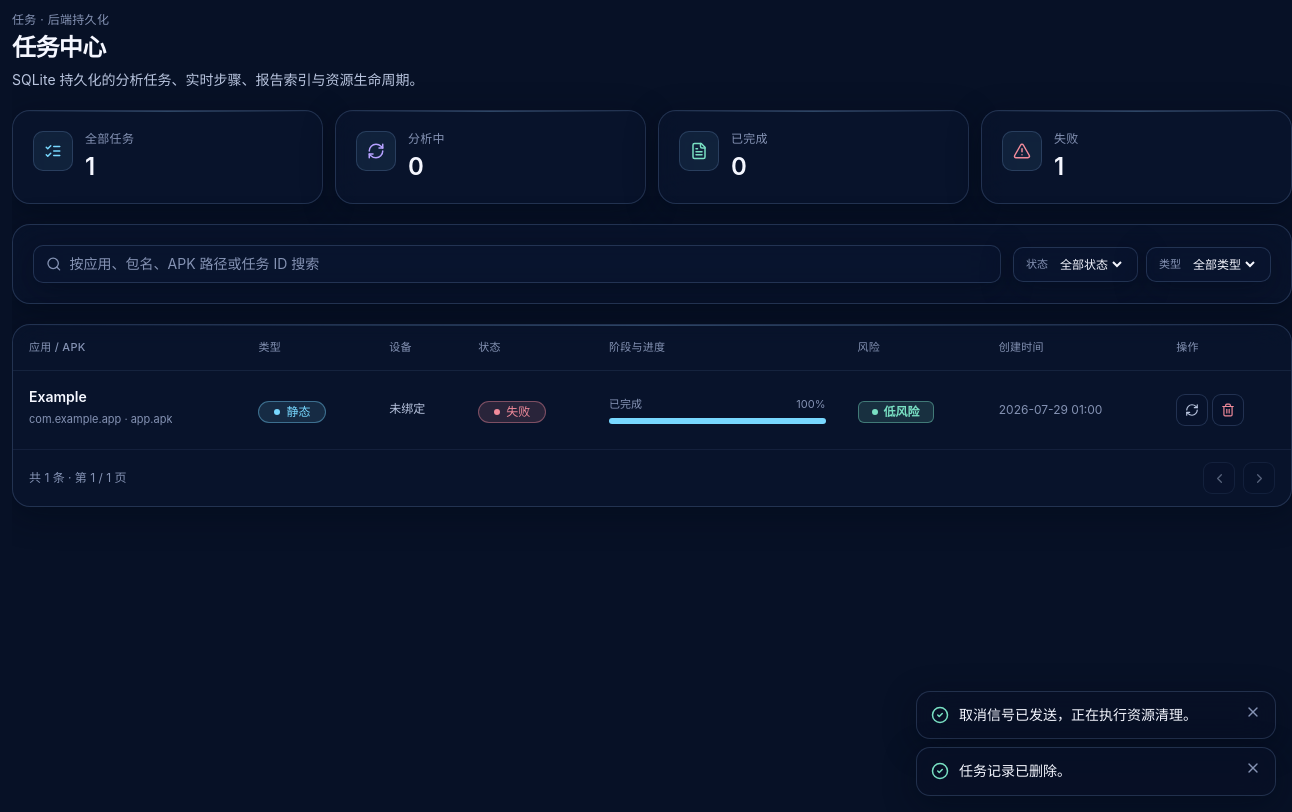
Test: Tasks — 后端持久化任务中心 › 失败任务可创建新的重试任务并进入详情
Click the button named "重新分析".
click(1192, 410)  # box [1176,394,1208,426]
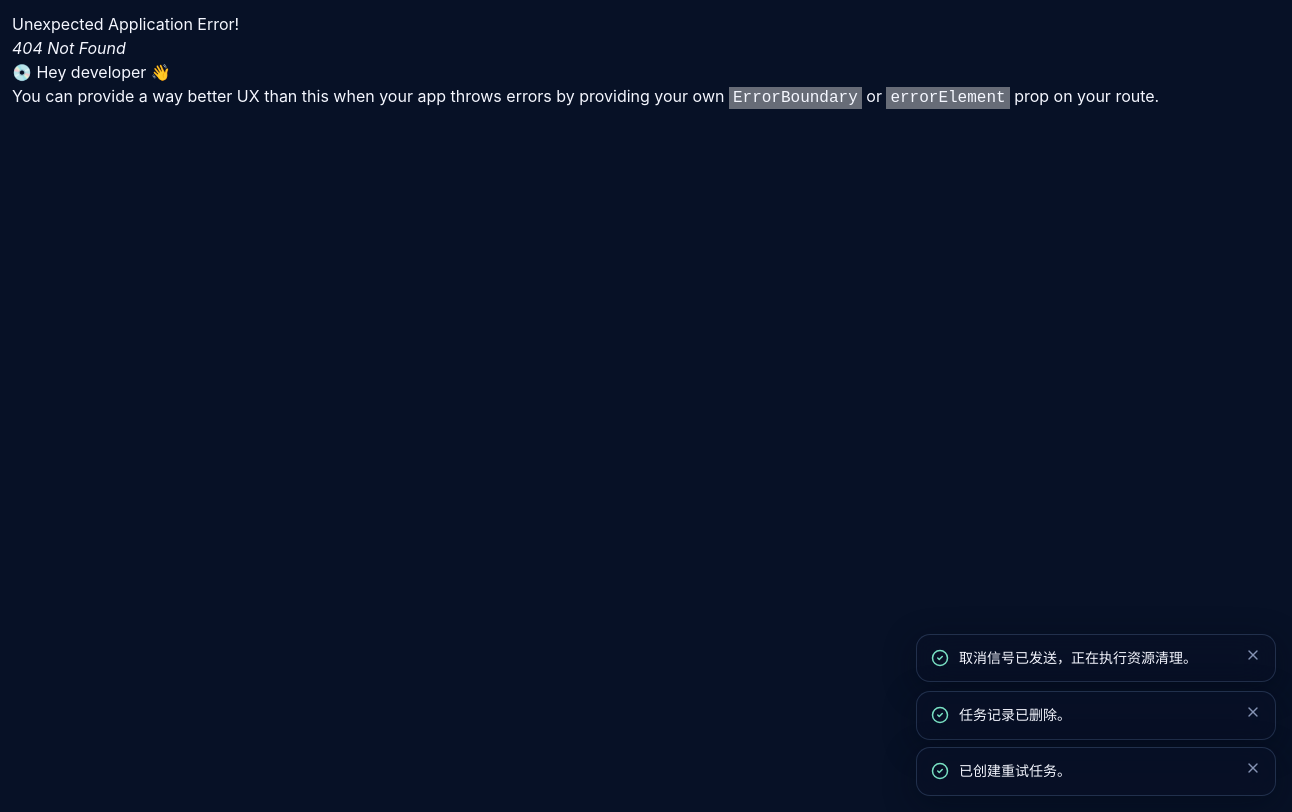
Expected: the text "已创建重试任务。" is shown, [959,762,1071,779]
